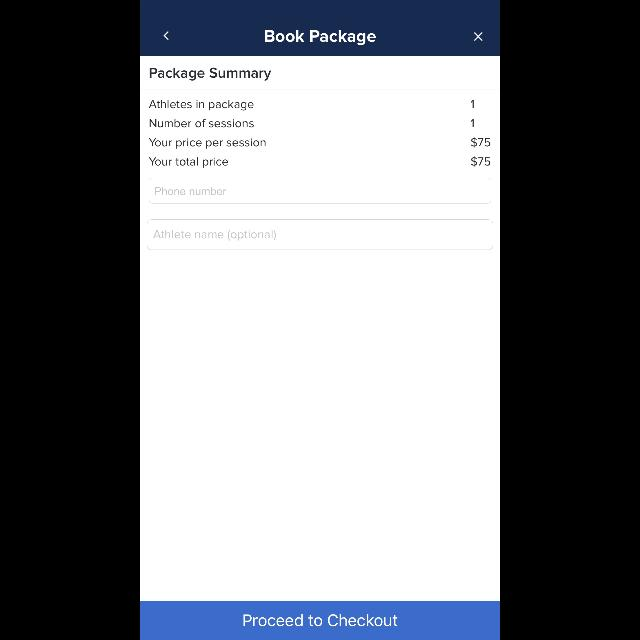icon: (473, 32, 482, 42), (164, 32, 168, 40)
input: (147, 220, 493, 250), (149, 178, 491, 204)
text: (266, 30, 376, 46), (154, 230, 276, 242), (150, 68, 272, 80), (150, 138, 266, 148), (148, 100, 254, 110), (150, 119, 254, 128), (150, 158, 228, 168), (156, 187, 227, 195), (472, 136, 491, 148), (472, 156, 491, 168), (471, 100, 474, 108), (471, 119, 474, 127)
textbutton: (140, 600, 500, 640)
